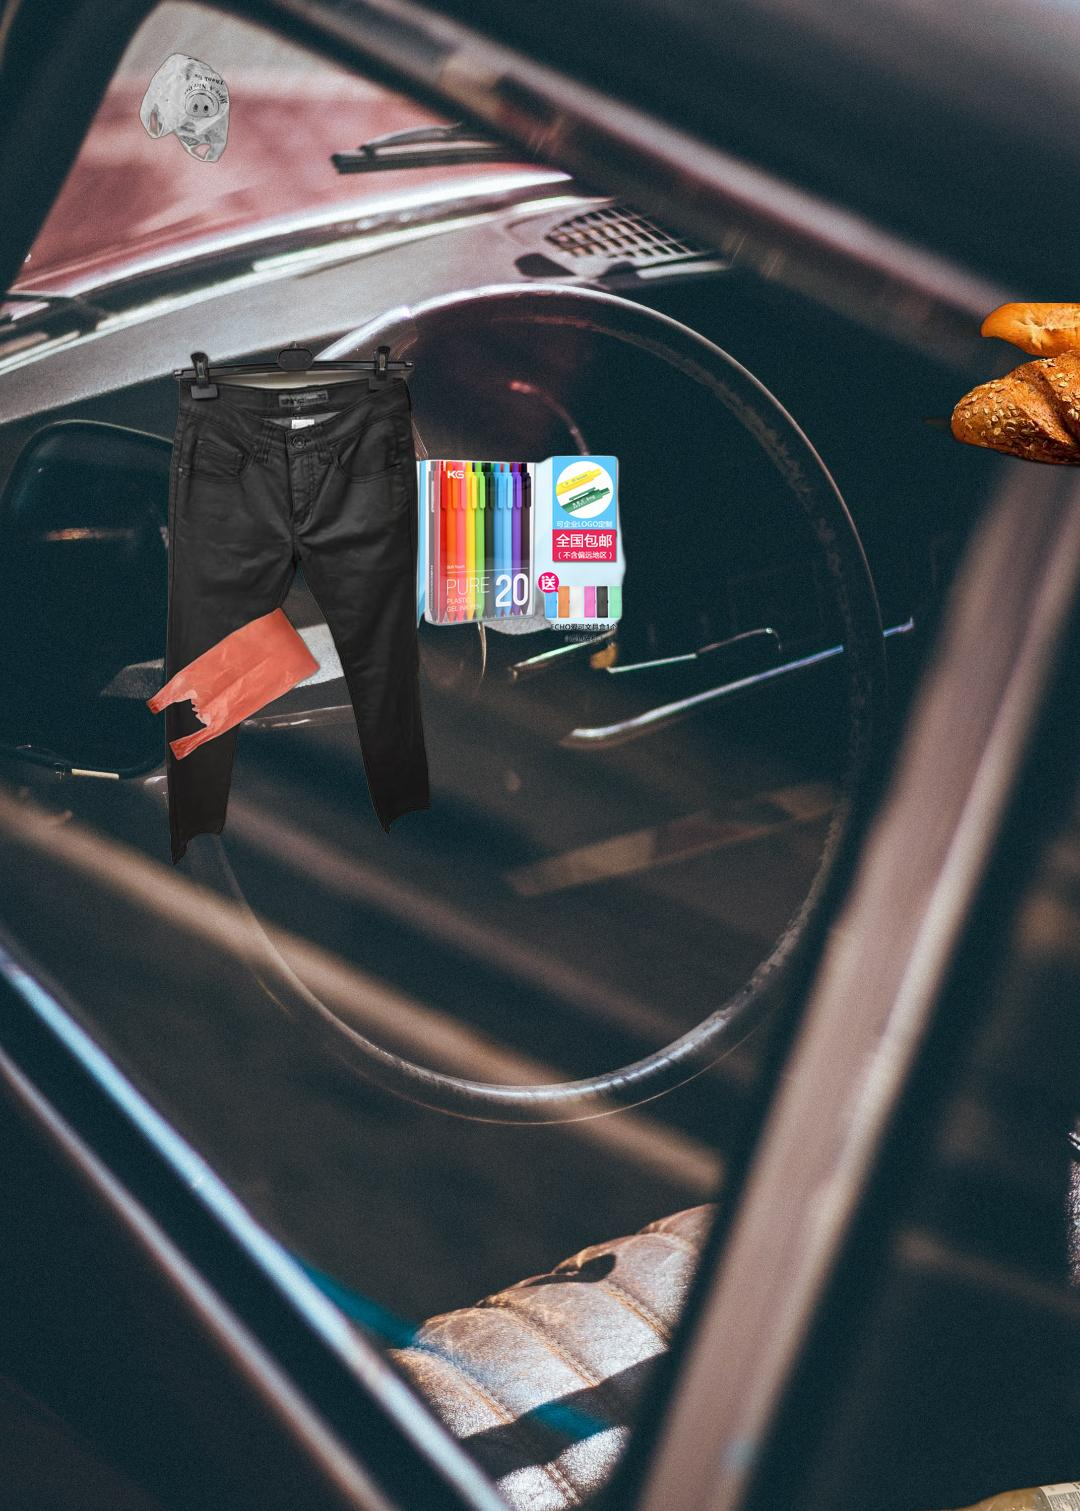biological: (852, 303, 1080, 473)
clothes: (162, 341, 507, 875)
penholder: (348, 453, 632, 660)
plastic-bag: (141, 595, 428, 895), (138, 50, 233, 165)
plastic-bottles: (909, 1472, 1080, 1511)
